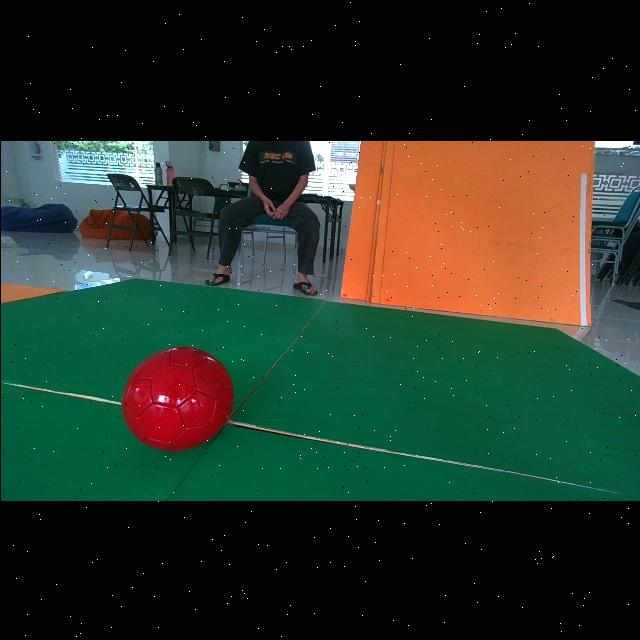R: (121, 345, 232, 451)
